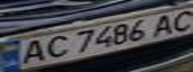4: (93, 22, 115, 51)
6: (127, 16, 154, 43)
7: (69, 27, 97, 55)
8: (112, 20, 133, 47)
A: (12, 37, 51, 66), (148, 11, 184, 37)
C: (39, 33, 72, 61), (166, 8, 193, 33)
